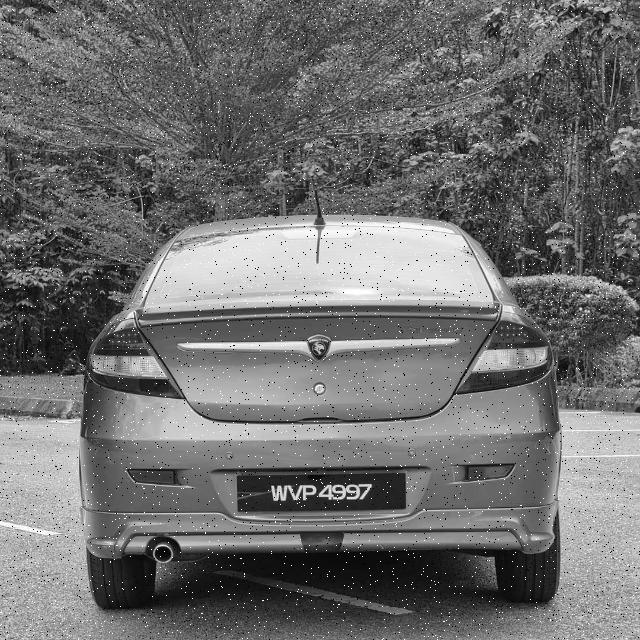License_Plate: (251, 476, 390, 510)
car: (78, 200, 562, 616)
